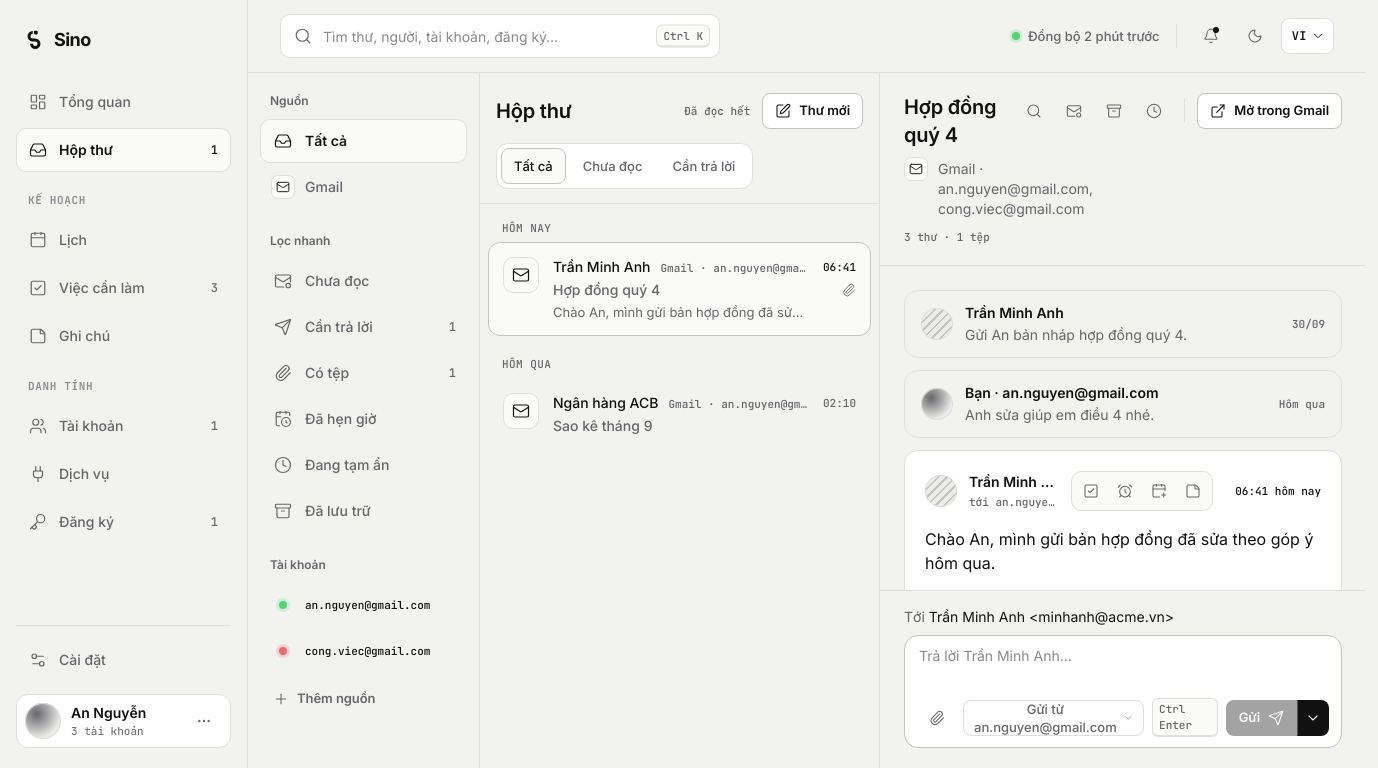
Test case: replying on the F10 API (FE-62) › keeps a reply as "Đang gửi" while the server is still sending a first try of it
This screenshot has width=1378, height=768.
Type "Em nhận được rồi." into the text box labelled "Trả lời Trần Minh Anh". click: (1124, 668)
box: 919,646 -> 1329,690
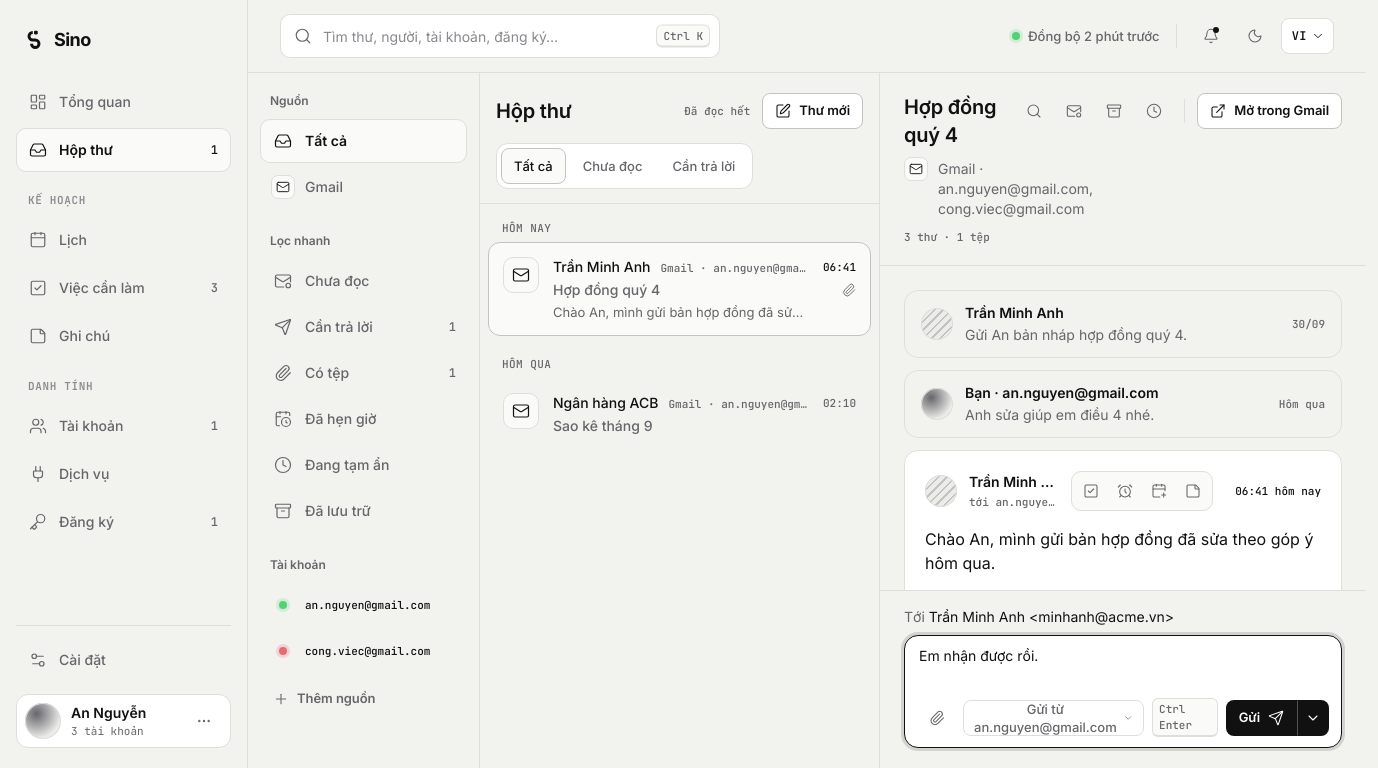
Click the button "Gửi". click: (1261, 718)
box: 1226,700 -> 1297,736
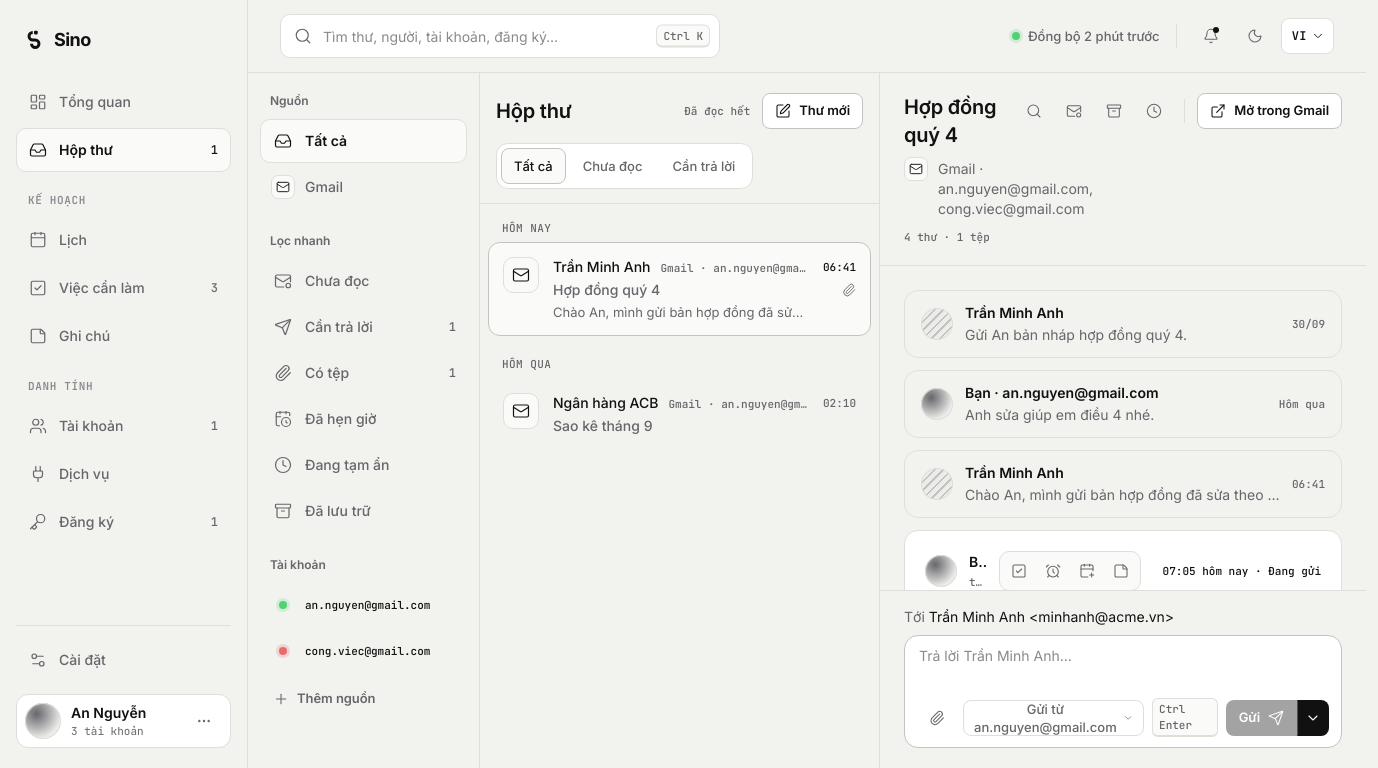
Check: the text "Em nhận được rồi." shows "Đang gửi", box 1163,564 -> 1321,578
